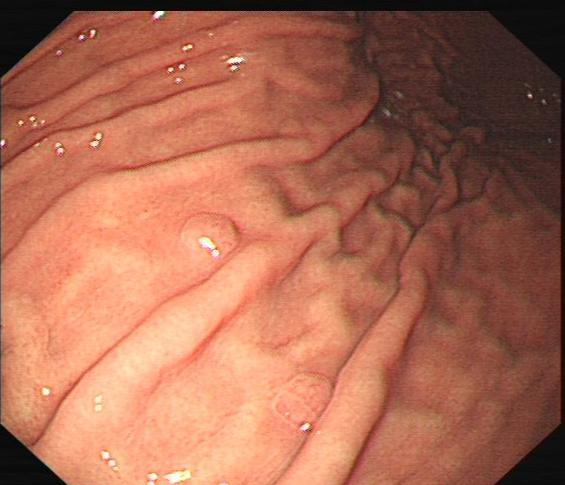Polyp: (181, 207, 243, 266)
